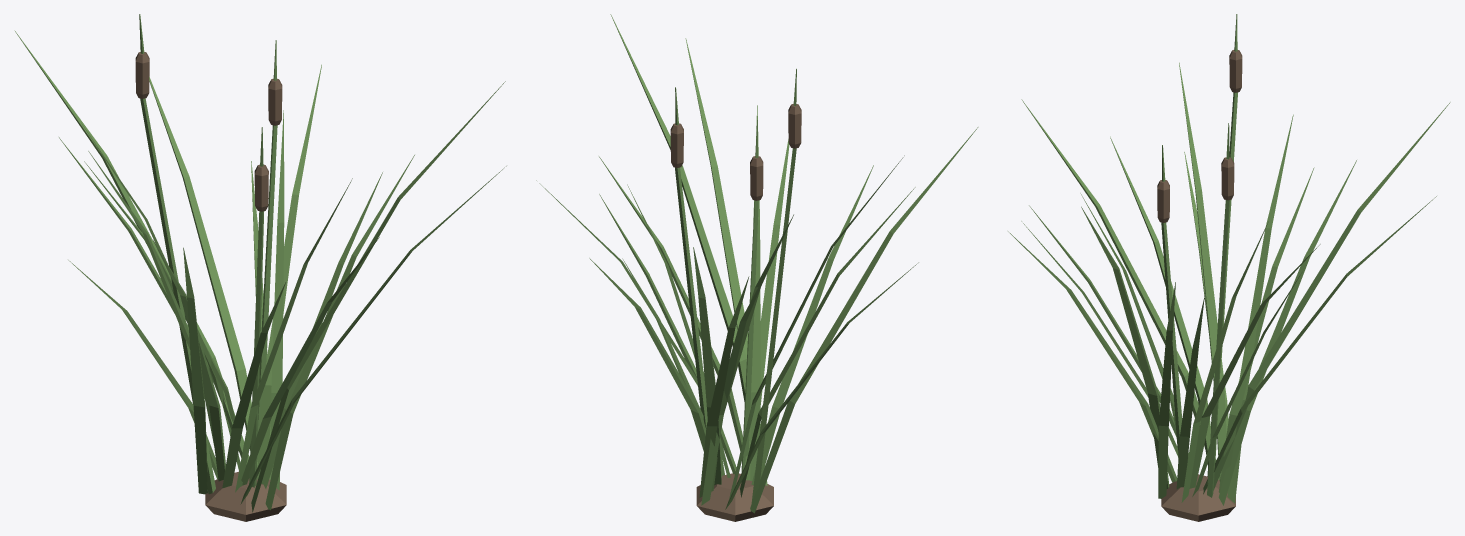
Rendered from reed_clump.glb.
The picture shows the model from 3 angles, left to right: view 1: azimuth 30°, elevation 25°; view 2: azimuth 150°, elevation 25°; view 3: azimuth 270°, elevation 25°; orthographic projection. The views are drawn at different scales.
Parts seen in each view (by area): view 1: reed_clump; view 2: reed_clump; view 3: reed_clump.
Boxes of the visible parts, x1=… form: reed_clump: x1=14, y1=14, x2=506, y2=521; reed_clump: x1=536, y1=14, x2=978, y2=521; reed_clump: x1=1008, y1=14, x2=1450, y2=521.
Bounding box in the file's own units: 1.78 × 2.22 × 1.96.
